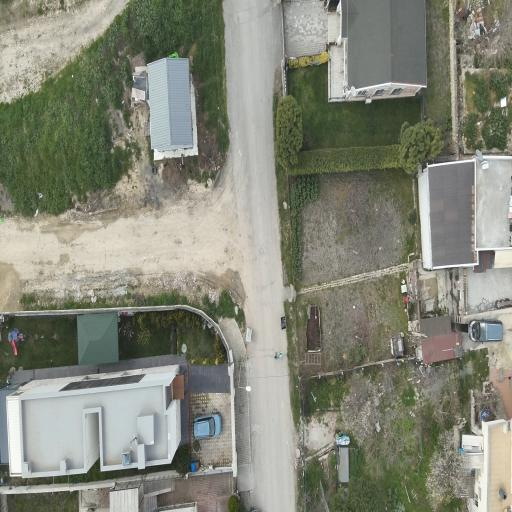car: (468, 319, 503, 342), (194, 414, 221, 439)
person: (278, 352, 282, 358), (274, 353, 278, 359)
